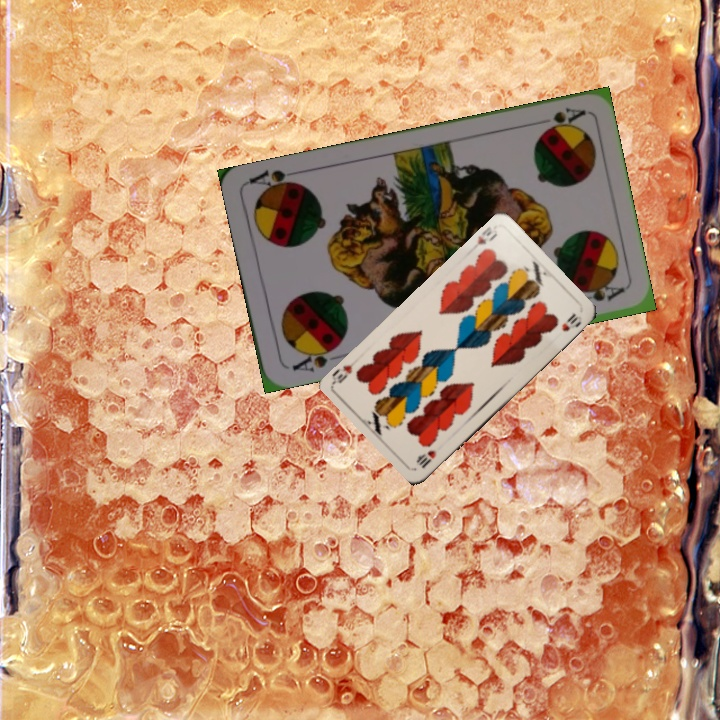H10: (413, 446, 439, 471), (473, 223, 500, 247)
SA: (288, 341, 343, 375), (536, 103, 588, 136)
